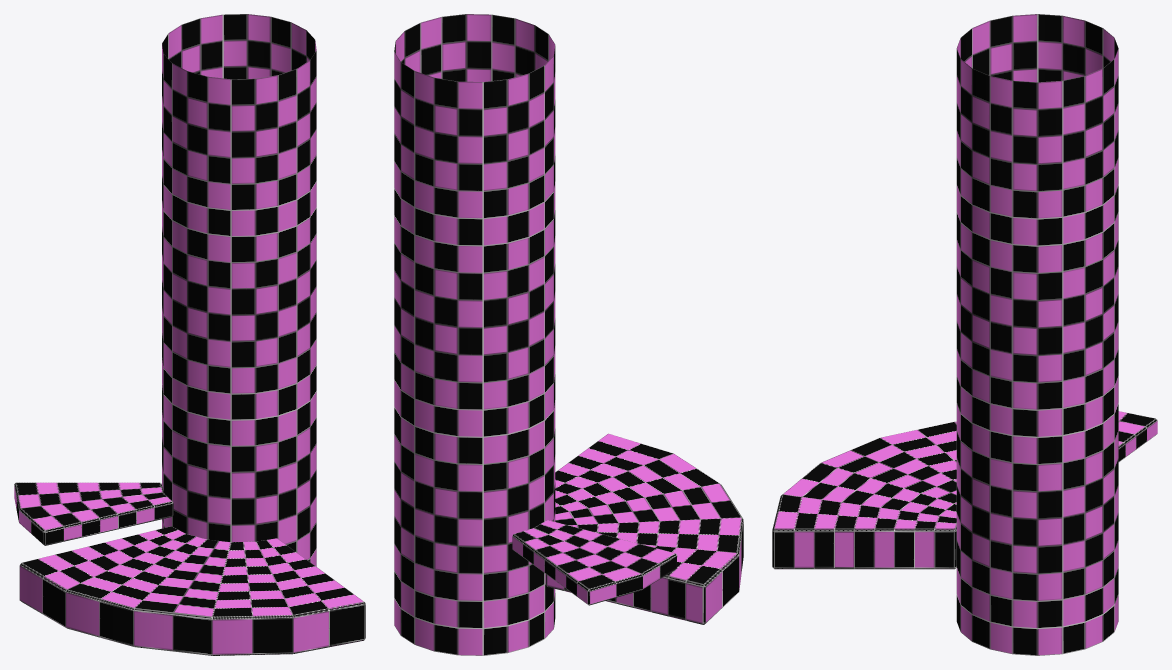
Rendered from VapourWave.fbx.
The picture shows the model from 3 angles, left to right: view 1: azimuth 30°, elevation 25°; view 2: azimuth 150°, elevation 25°; view 3: azimuth 270°, elevation 25°; orthographic projection. The views are drawn at different scales.
Parts seen in each view (by area): view 1: VapourSpire, VapourQuarter, VapourStep; view 2: VapourSpire, VapourQuarter, VapourStep; view 3: VapourSpire, VapourQuarter, VapourStep.
Boxes of the visible parts, left/top/right/bottom form: VapourSpire: left=162, top=14, right=316, bottom=566; VapourQuarter: left=19, top=526, right=365, bottom=655; VapourStep: left=14, top=482, right=173, bottom=545; VapourSpire: left=394, top=14, right=555, bottom=655; VapourQuarter: left=545, top=433, right=743, bottom=624; VapourStep: left=512, top=520, right=677, bottom=605; VapourSpire: left=956, top=14, right=1118, bottom=655; VapourQuarter: left=772, top=421, right=956, bottom=569; VapourStep: left=1118, top=411, right=1157, bottom=461.
Bounding box in the file's own units: 471 × 861 × 525.
1 material, 1 textured.
